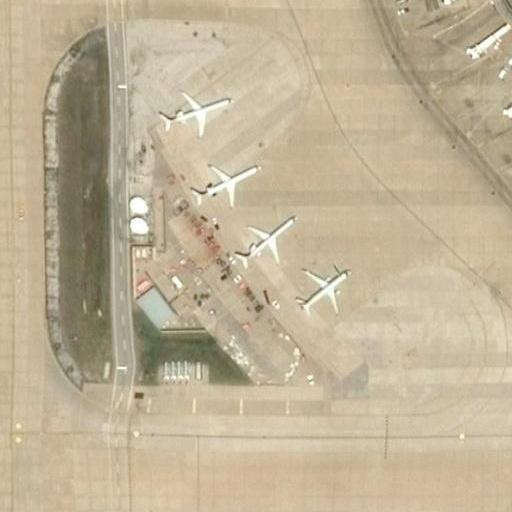Aircraft: (293, 258, 347, 323), (159, 87, 233, 134), (188, 157, 260, 205), (225, 218, 289, 272)
